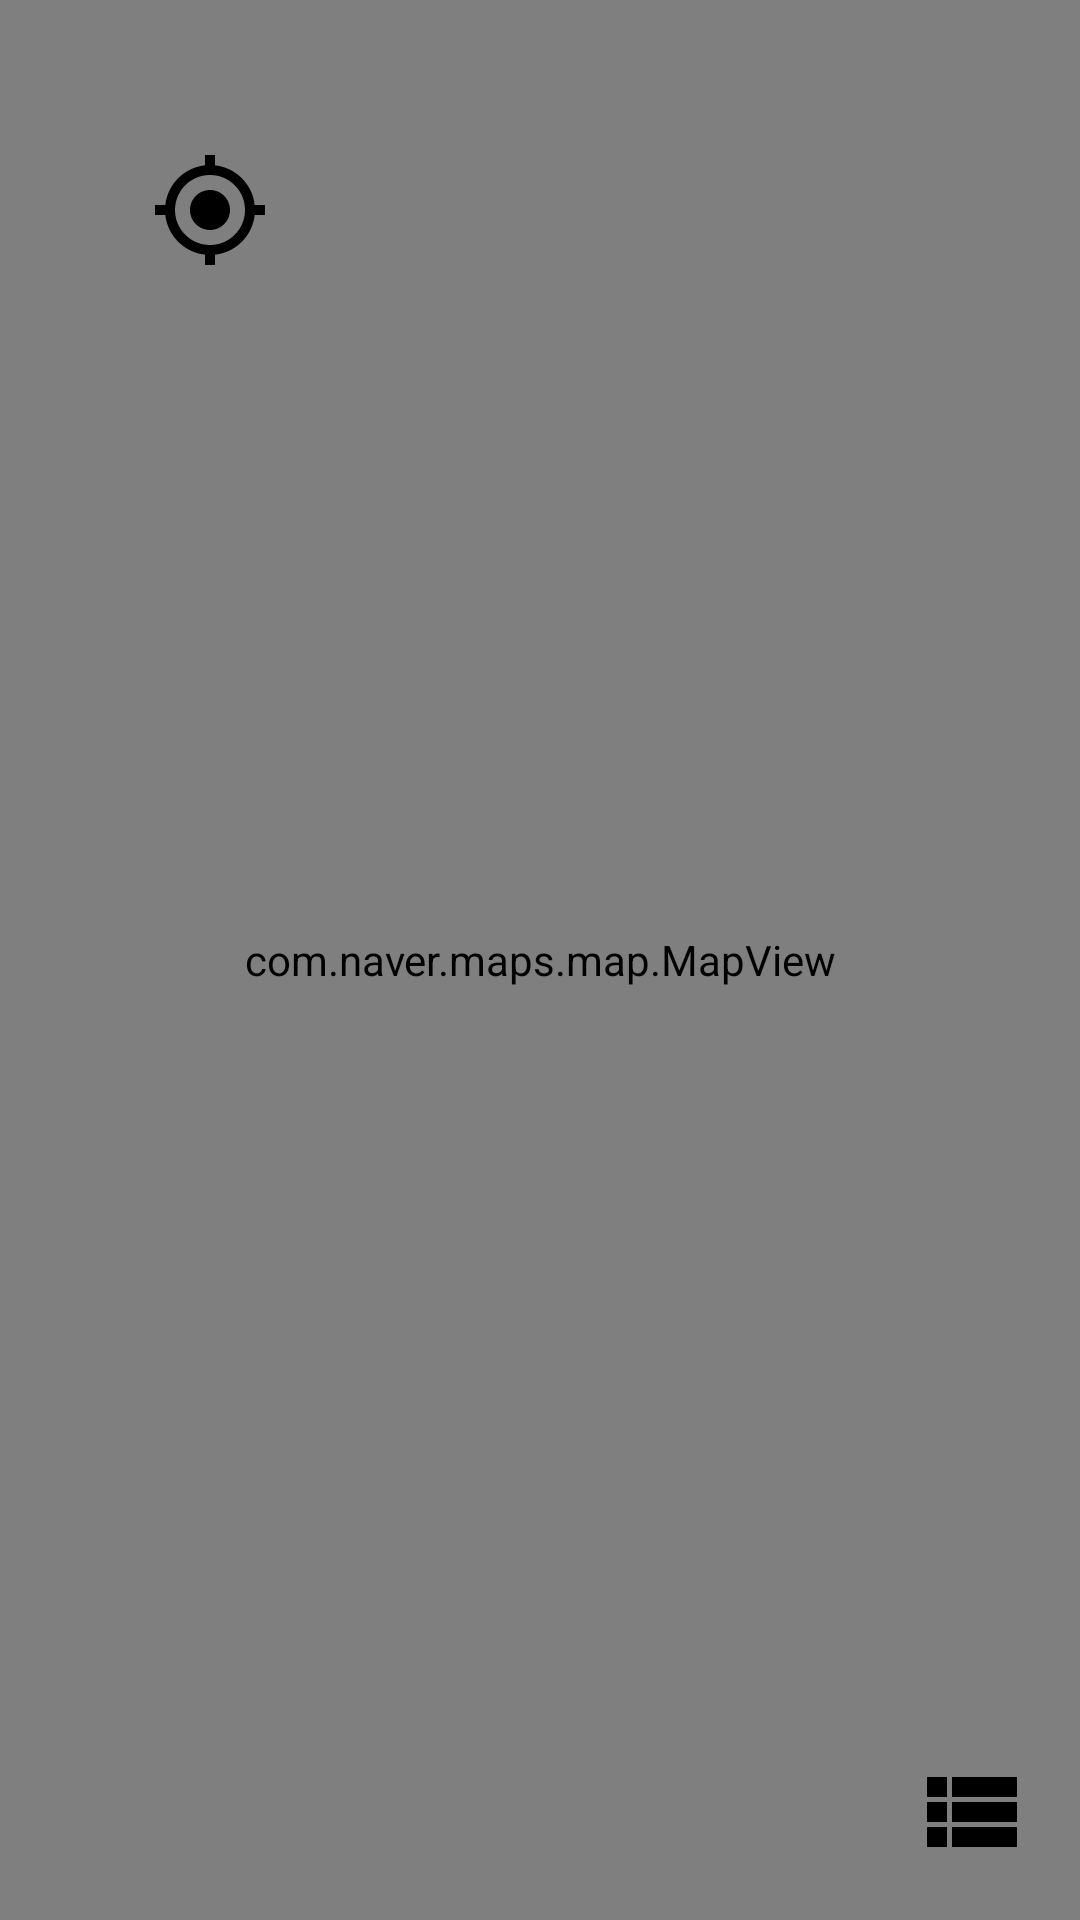

Icon click points for this 1080x1920 phone screenshot, format point (x, y):
My Location: point (210, 210)
Open Chat List: point (972, 1812)
